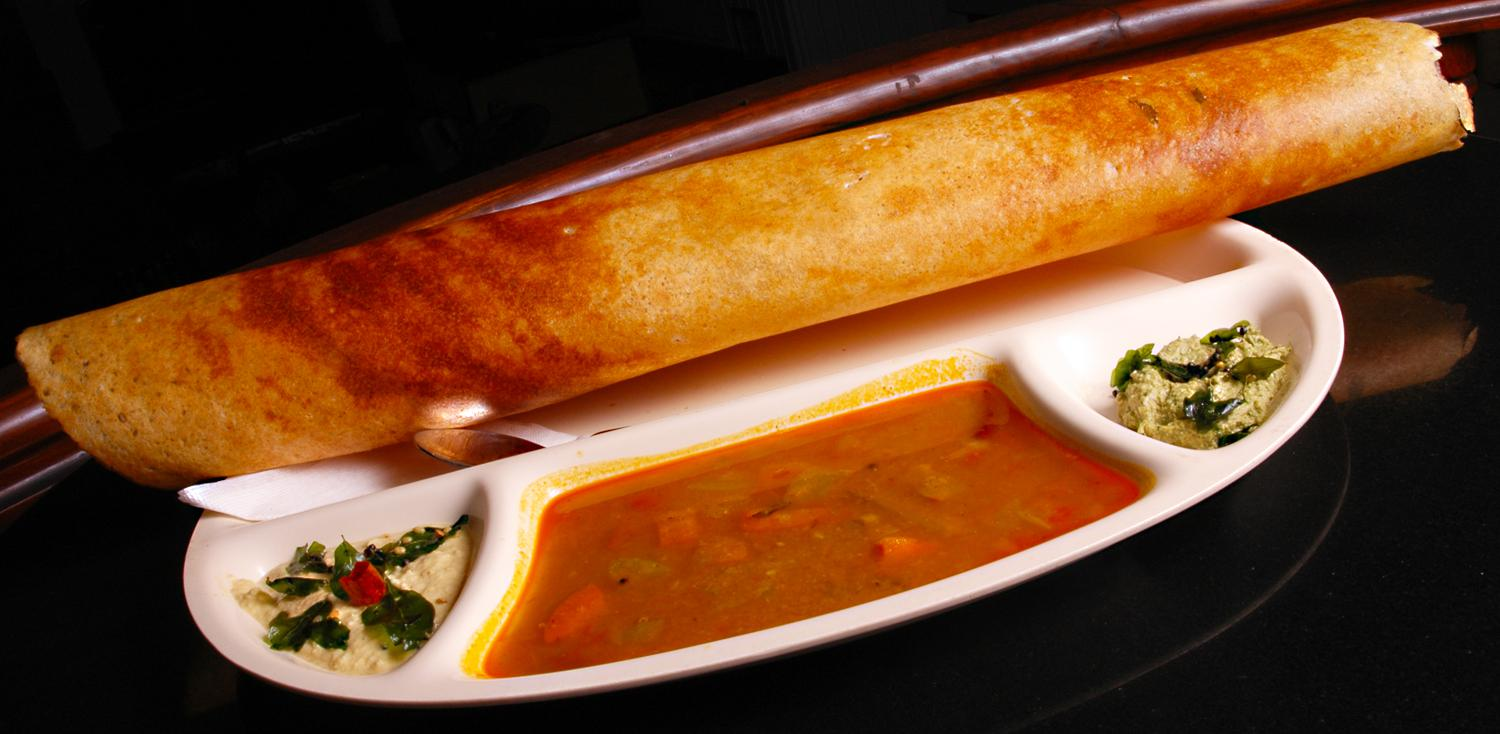dosa: (18, 15, 1479, 493)
